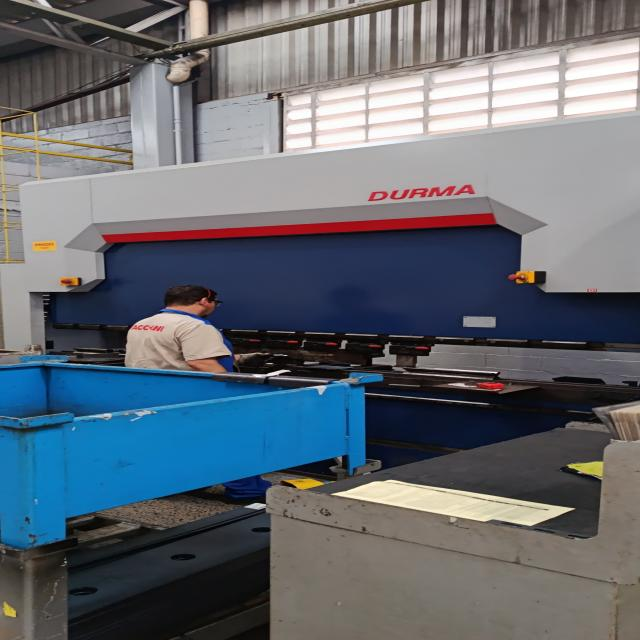oculos-epi: (208, 299, 223, 307)
